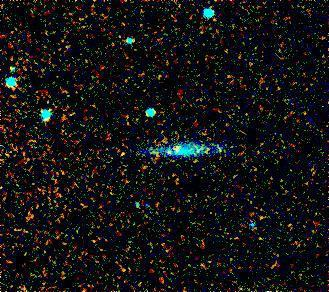star: (158, 137, 188, 167)
